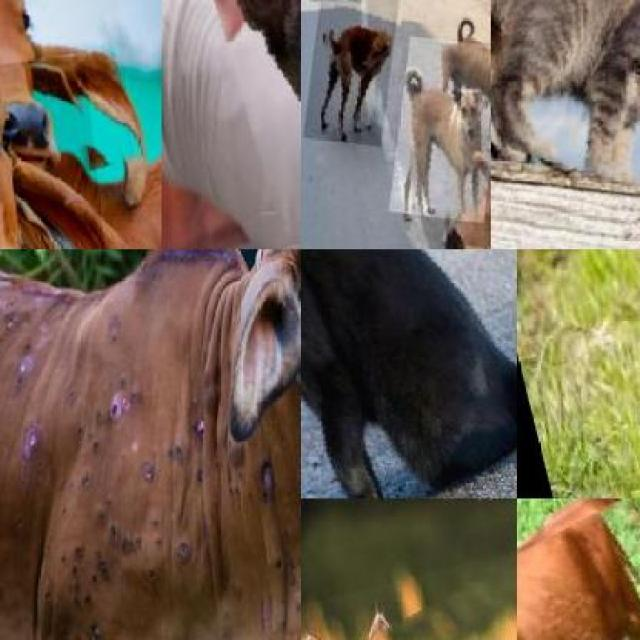cat: (300, 250, 517, 498), (491, 0, 640, 205), (300, 511, 517, 640), (195, 0, 300, 249)
cow: (0, 249, 300, 640), (0, 0, 135, 204), (0, 54, 126, 249), (517, 498, 640, 640)
dog: (388, 35, 490, 222), (566, 250, 640, 498), (302, 0, 398, 148), (444, 0, 490, 154), (415, 178, 491, 250)
injured: (26, 380, 200, 583)
